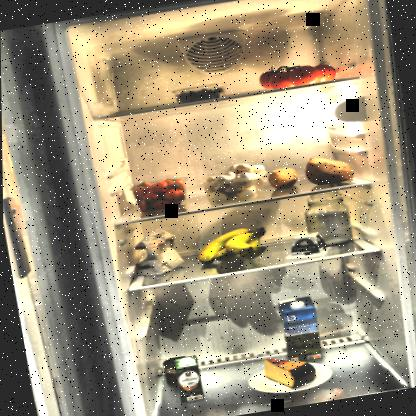banana: (193, 223, 272, 267)
blueberries: (171, 80, 230, 106)
cheese: (258, 349, 319, 394)
corn: (161, 353, 195, 386)
heavy_cream: (172, 354, 203, 402)
milk: (274, 294, 325, 366)
mushrooms: (198, 155, 269, 210)
strawberries: (128, 174, 193, 216)
sweet_potato: (301, 151, 356, 188), (264, 164, 303, 192)
tomato: (255, 54, 342, 94)
